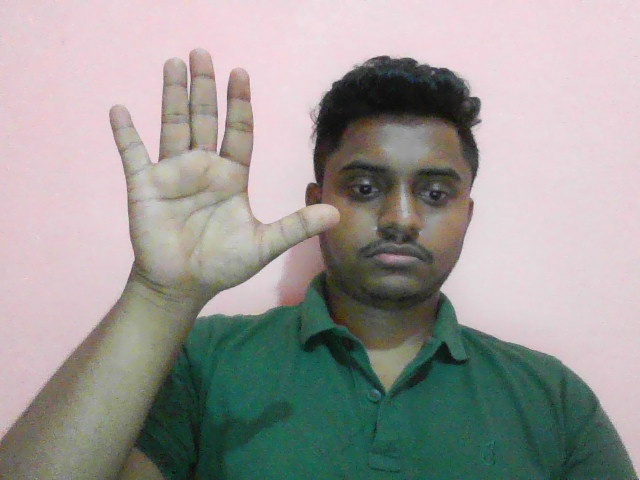Hello: (105, 39, 343, 324)
